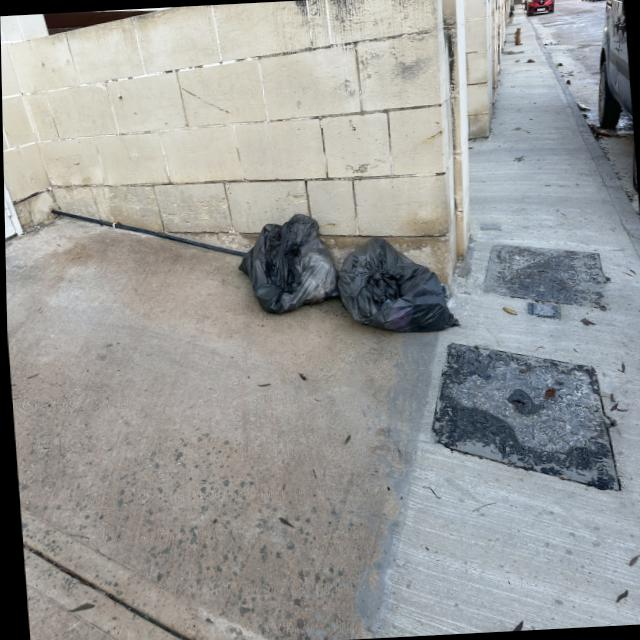Mixed Waste -Black Bags-: (237, 214, 460, 333)
